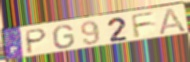2: (105, 15, 131, 44)
9: (80, 20, 102, 46)
A: (158, 7, 188, 36)
F: (130, 10, 157, 39)
G: (52, 24, 76, 50)
P: (25, 28, 49, 56)
